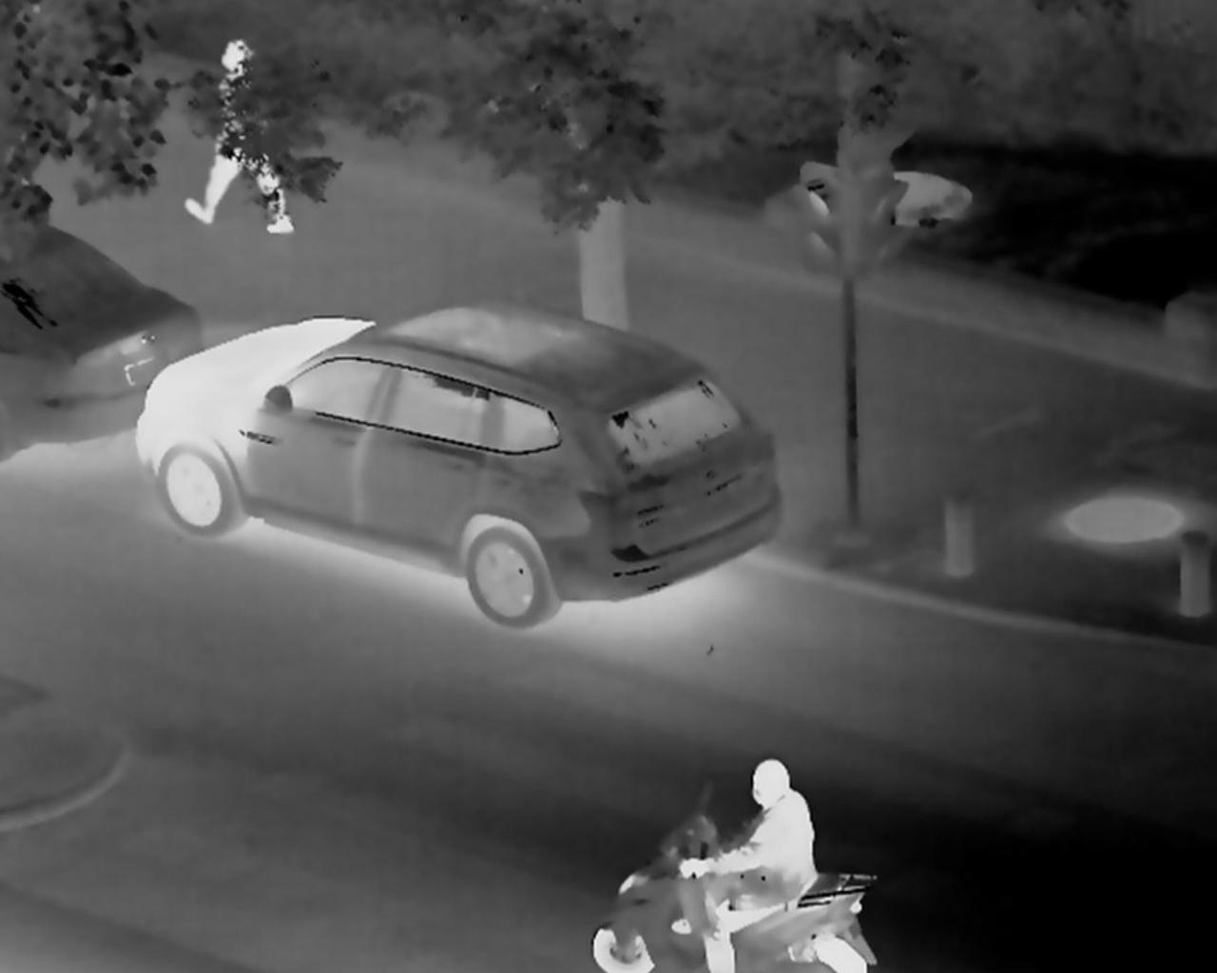person: (686, 756, 854, 973), (185, 32, 297, 248)
